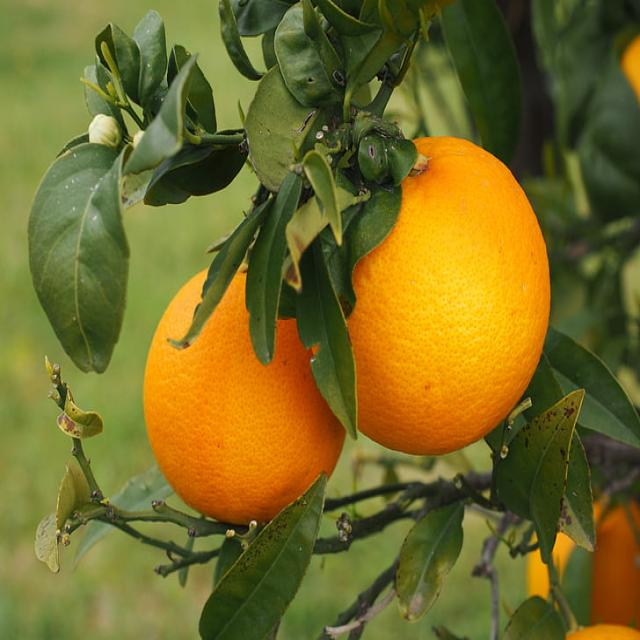orange: (339, 149, 552, 460), (136, 282, 332, 526)
